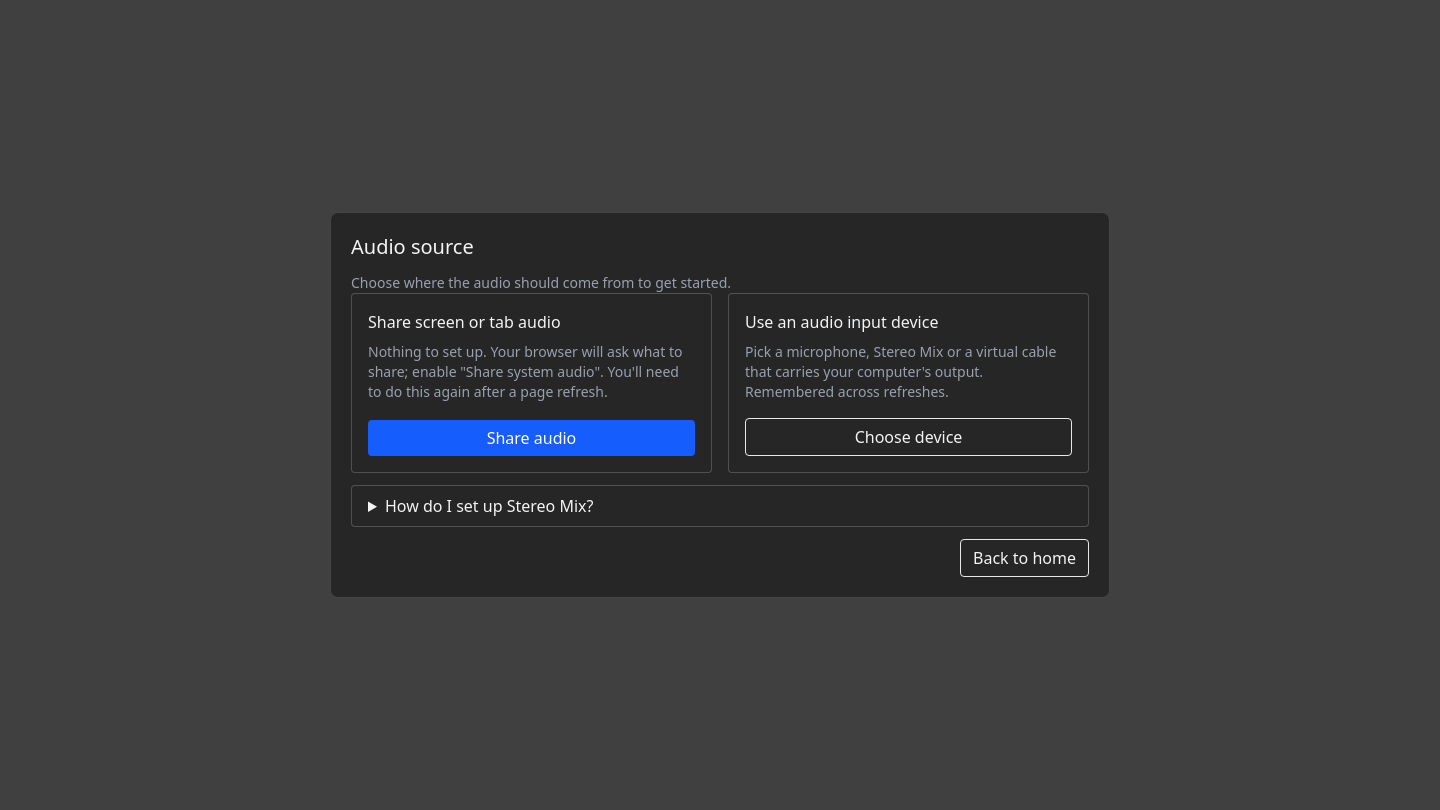
Test: RequireAudioLayout route › renders the child route once a source starts from the dialog
Step 1. Click the button "Share audio" → coordinates (532, 438), box [368,420,695,456]
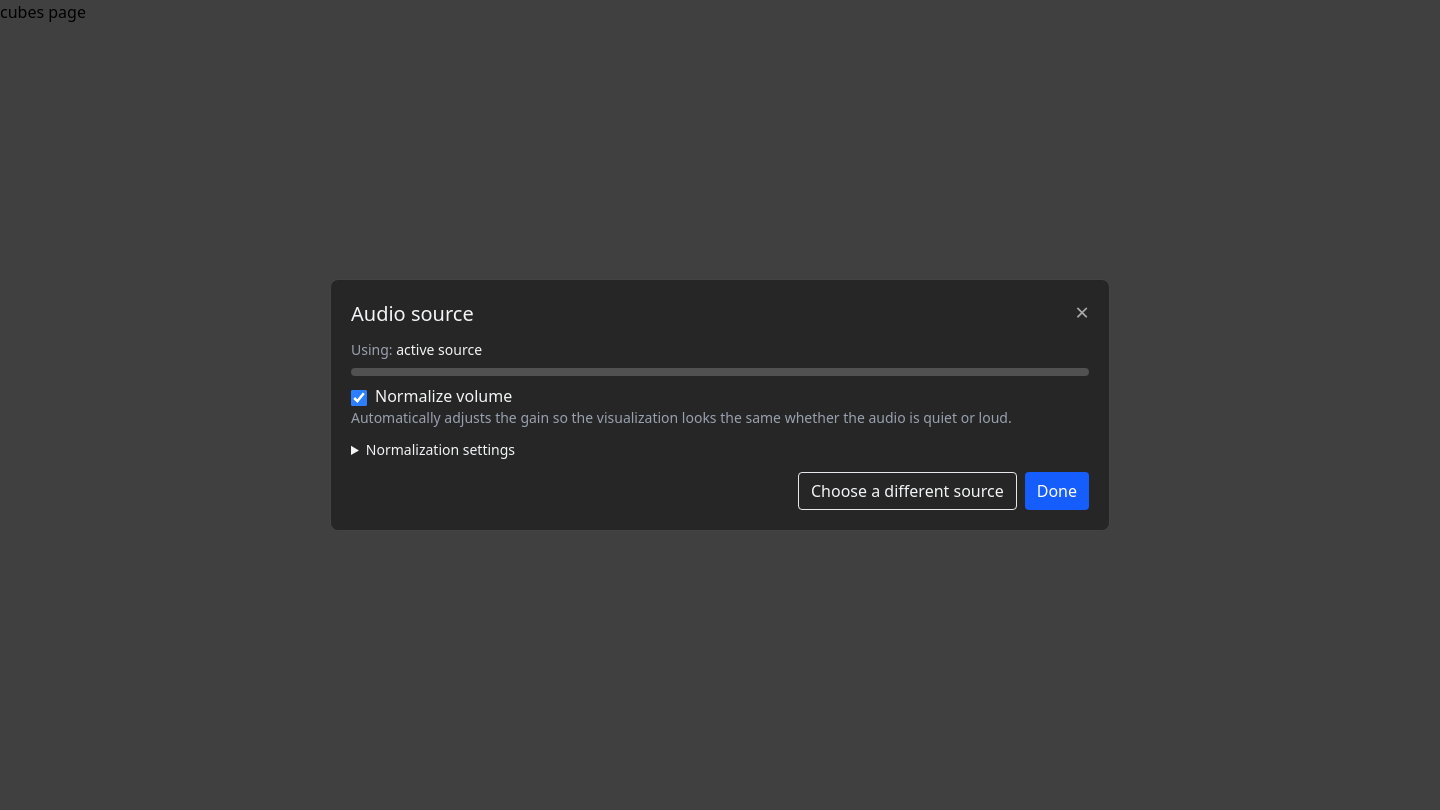
Check: the text "cubes page" is shown, box [0,1,86,23]
